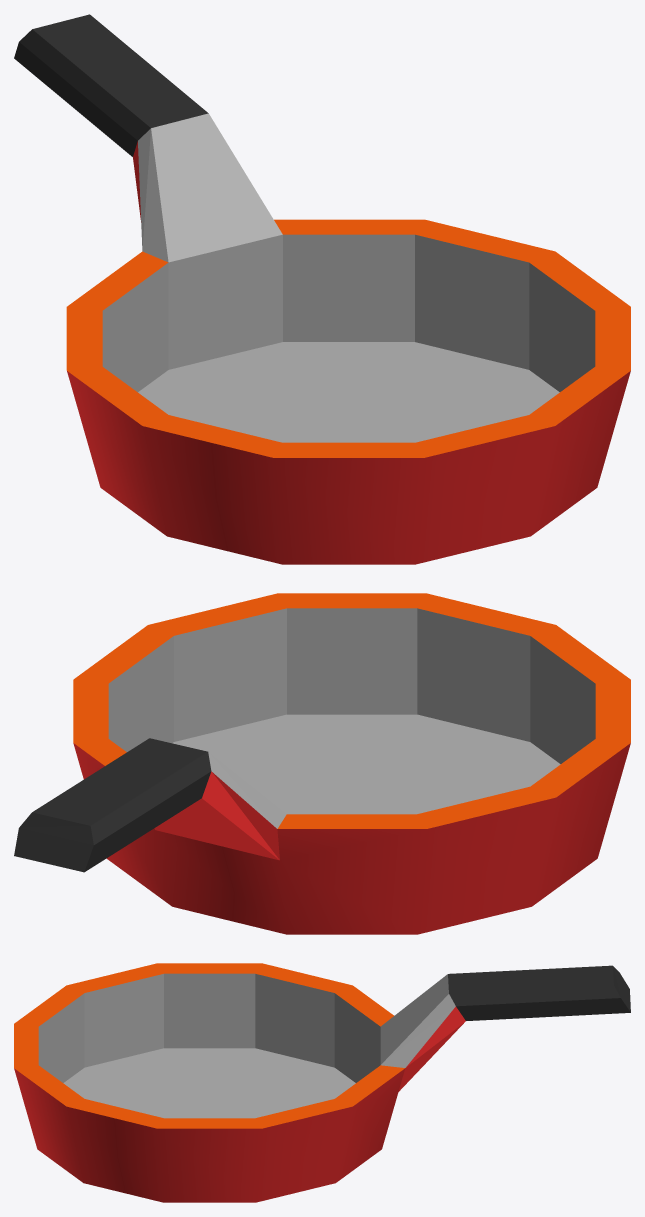
Rendered from Frying pan2.fbx.
3 renders of one model, top to bottom at view 1: azimuth 30°, elevation 25°; view 2: azimuth 150°, elevation 25°; view 3: azimuth 270°, elevation 25°, orthographic. The views are drawn at different scales.
Visible parts, largest first — view 1: Frying pan2; view 2: Frying pan2; view 3: Frying pan2.
Boxes of the visible parts, box(x1,y1,x2,y2) form: Frying pan2: box(14, 14, 630, 564); Frying pan2: box(14, 593, 630, 934); Frying pan2: box(14, 963, 630, 1202).
Size of the model in its own units: 32.26 by 14.14 by 50.86.
